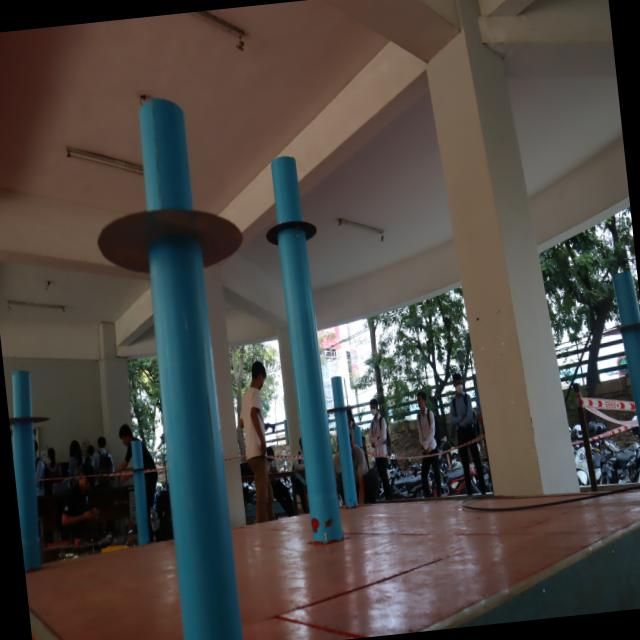pole: (69, 75, 254, 338), (250, 147, 336, 303), (5, 360, 52, 482), (602, 271, 640, 350), (121, 431, 158, 504), (322, 370, 356, 444)
